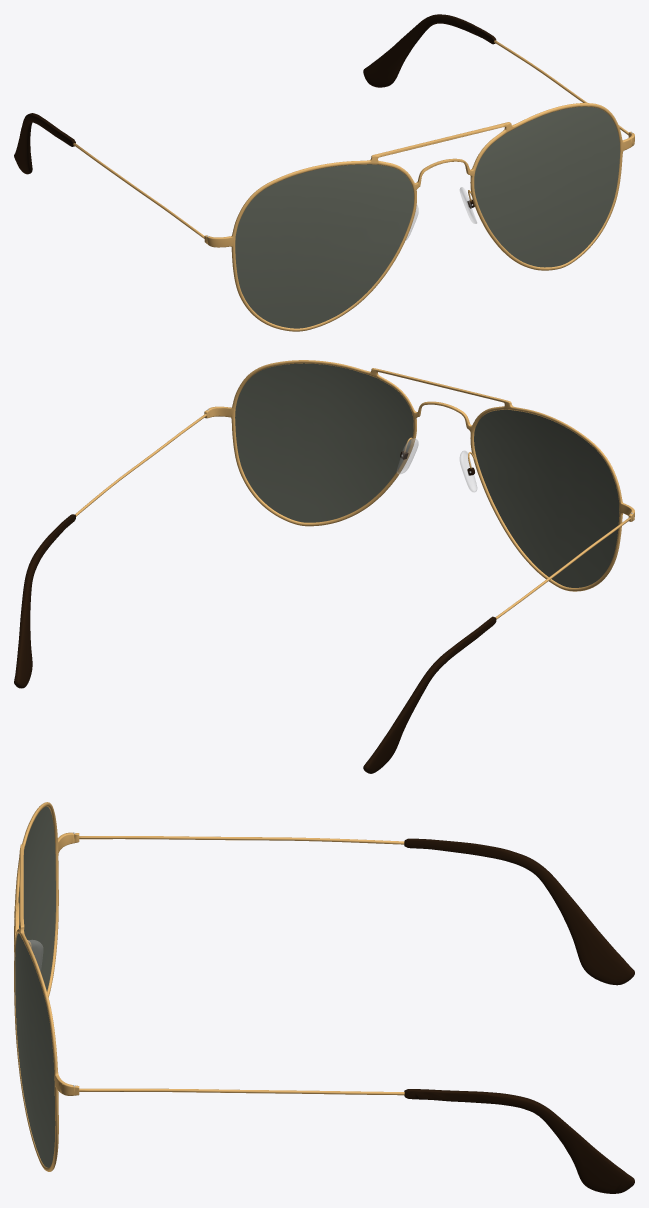
3 renders of one model, top to bottom at view 1: azimuth 30°, elevation 25°; view 2: azimuth 150°, elevation 25°; view 3: azimuth 270°, elevation 25°, orthographic. The views are drawn at different scales.
Visible parts, largest first — view 1: Aviators; view 2: Aviators; view 3: Aviators.
Boxes of the visible parts, bbox=[...] form: Aviators: bbox=[14, 14, 634, 331]; Aviators: bbox=[14, 360, 634, 773]; Aviators: bbox=[14, 802, 634, 1193].
Bounding box in the file's own units: 13.96 × 5.22 × 14.39.
